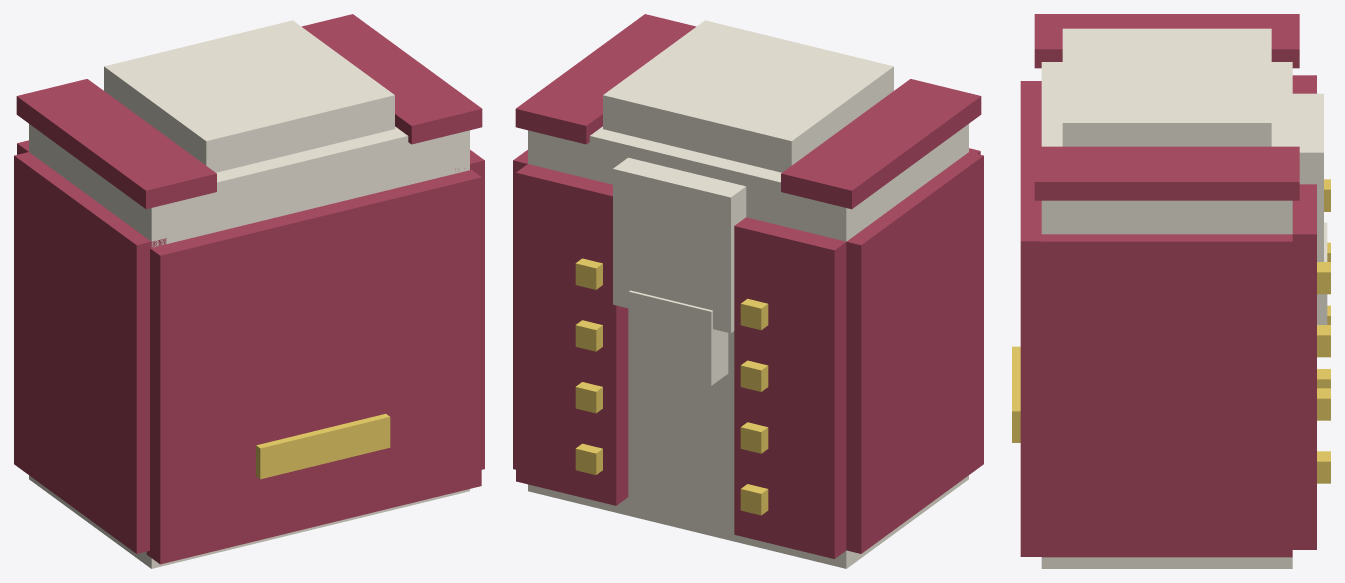
File: pirata_tronco.glb
The picture shows the model from 3 angles, left to right: view 1: azimuth 30°, elevation 25°; view 2: azimuth 150°, elevation 25°; view 3: azimuth 270°, elevation 25°; orthographic projection. The views are drawn at different scales.
Visible parts, largest first — view 1: pirata_tronco; view 2: pirata_tronco; view 3: pirata_tronco.
Part boxes in pixels (<box>): pirata_tronco: <box>14,14,484,568</box>; pirata_tronco: <box>513,14,983,568</box>; pirata_tronco: <box>1012,14,1330,568</box>.
Bounding box in the file's own units: 0.59 × 0.655 × 0.4575.
